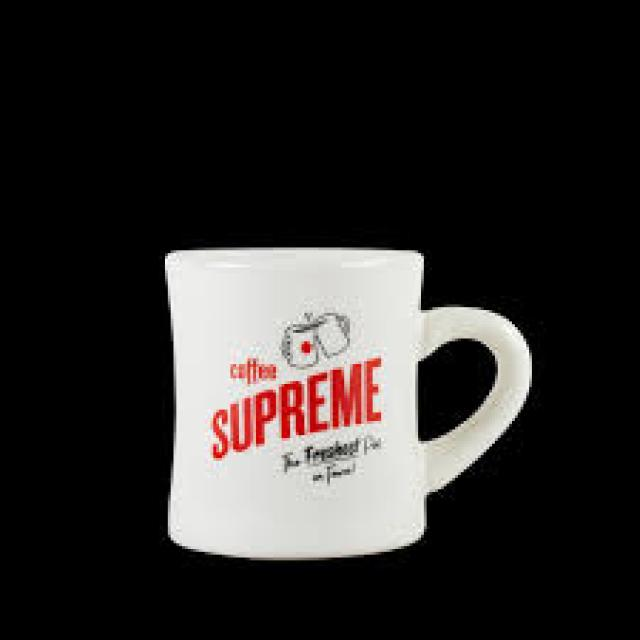taza: (166, 247, 532, 560)
